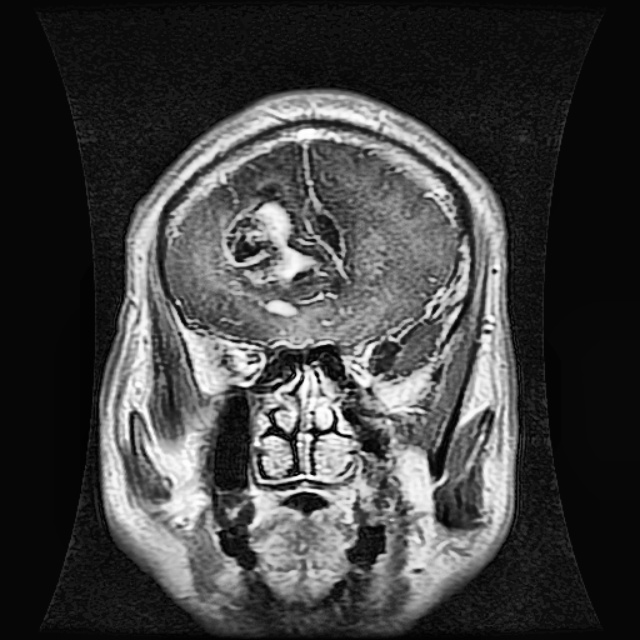Meningioma: (220, 195, 323, 283)
